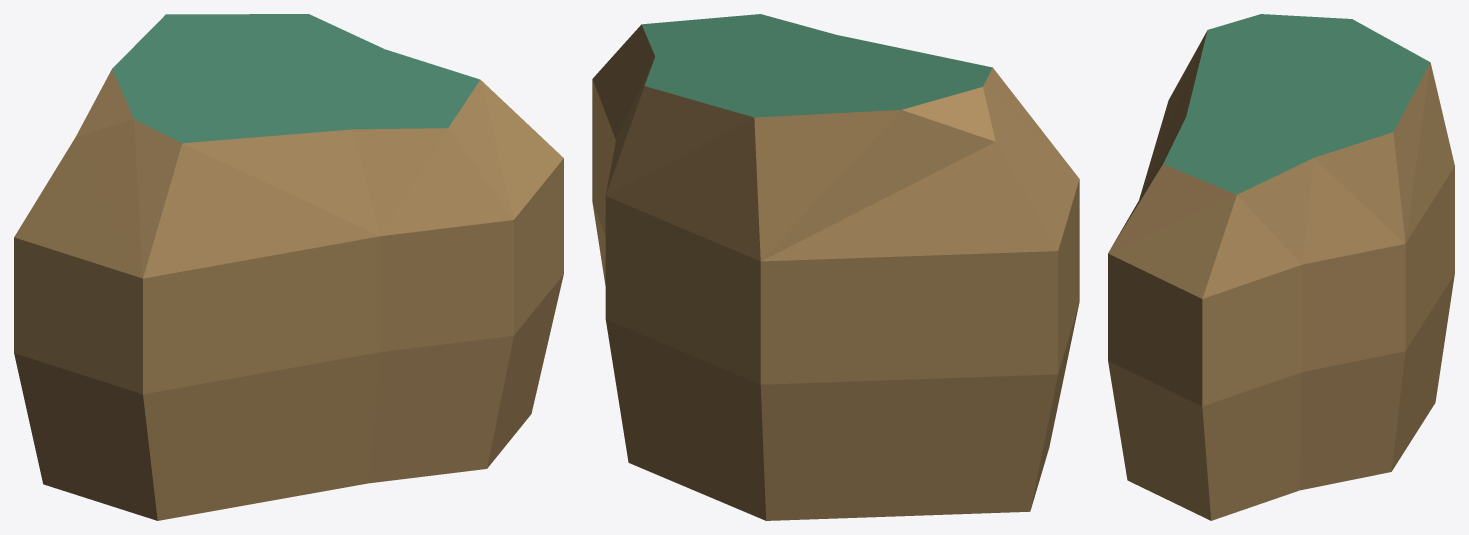
File: Rock_Large_Mesa_Eroded_Moss_Grass_12.FBX
3 views of the same model, side by side, from view 1: azimuth 30°, elevation 25°; view 2: azimuth 150°, elevation 25°; view 3: azimuth 270°, elevation 25° (orthographic). The views are drawn at different scales.
Parts seen in each view (by area): view 1: Rock_Large_Mesa_Eroded_Moss_Grass_12; view 2: Rock_Large_Mesa_Eroded_Moss_Grass_12; view 3: Rock_Large_Mesa_Eroded_Moss_Grass_12.
Part boxes in pixels (x1,y1,x2,y2): Rock_Large_Mesa_Eroded_Moss_Grass_12: (14, 14, 563, 520); Rock_Large_Mesa_Eroded_Moss_Grass_12: (592, 14, 1079, 520); Rock_Large_Mesa_Eroded_Moss_Grass_12: (1108, 14, 1454, 520).
Size of the model in its own units: 5778 by 4178 by 3791.
